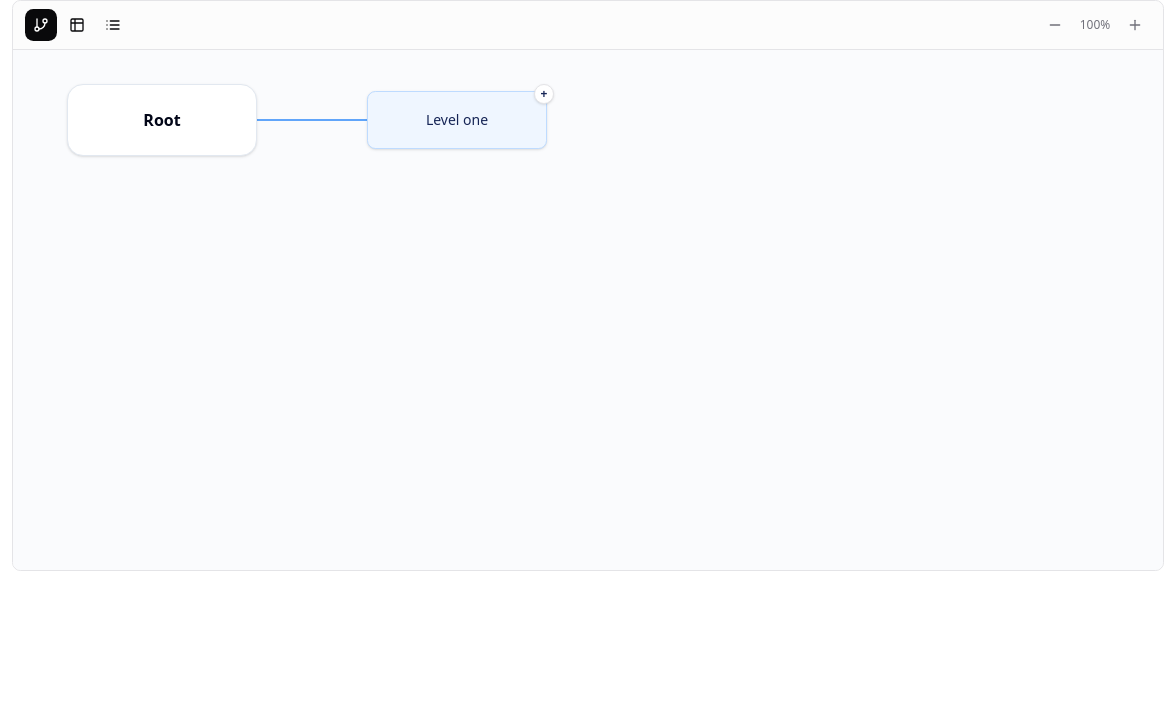
LearningAssetPreview mind maps › keeps deep mind map levels available for expansion
Expected: the text "Root" is shown, 143,108 -> 181,132
Expected: the text "Level one" is shown, 426,110 -> 488,130
Click the button "+ Level one". click: coordinates (457, 120)
box: 367,91 -> 547,149
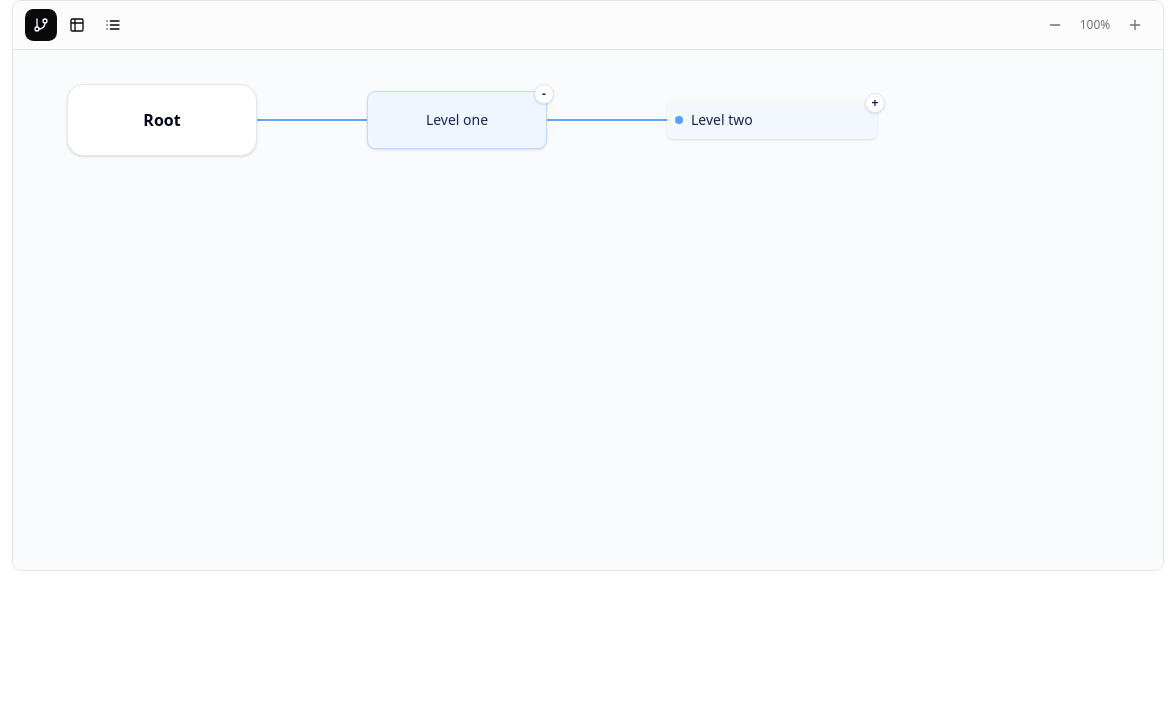
Expected: the text "Level two" is shown, 691,110 -> 753,130
Click the button "+ Level two". click: coordinates (772, 120)
box: 667,101 -> 877,139
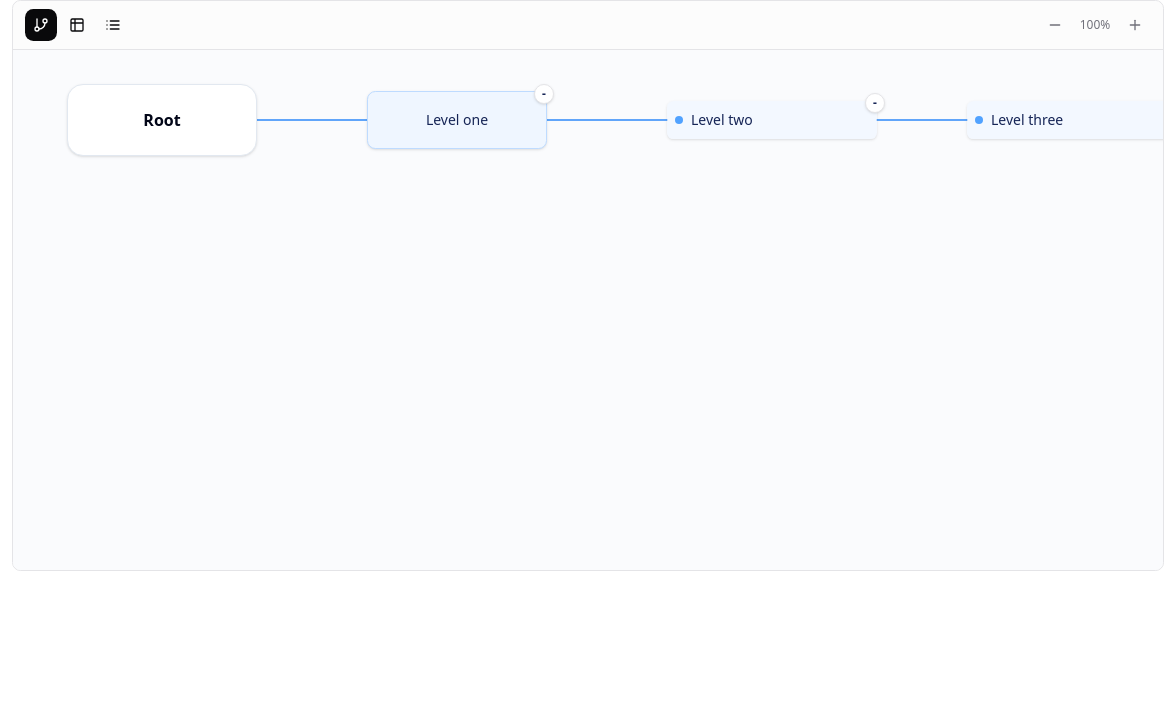
Expected: the text "Level three" is shown, 991,110 -> 1063,130
